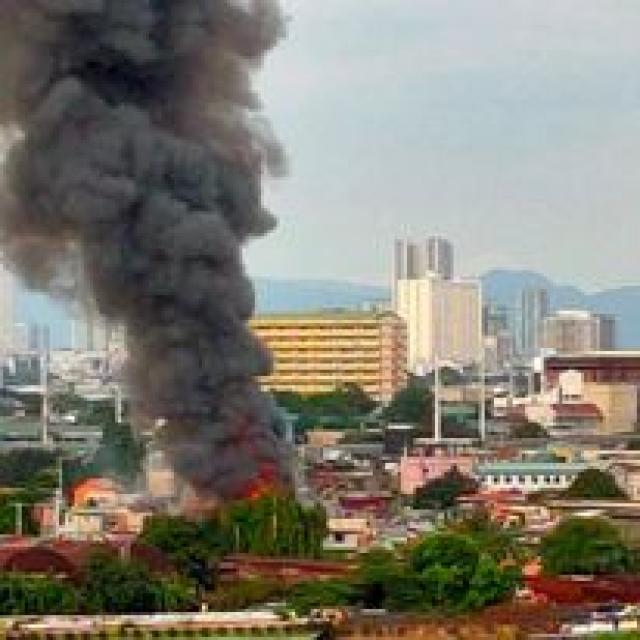Fire: (240, 462, 299, 506)
Smoke: (0, 0, 296, 458)
